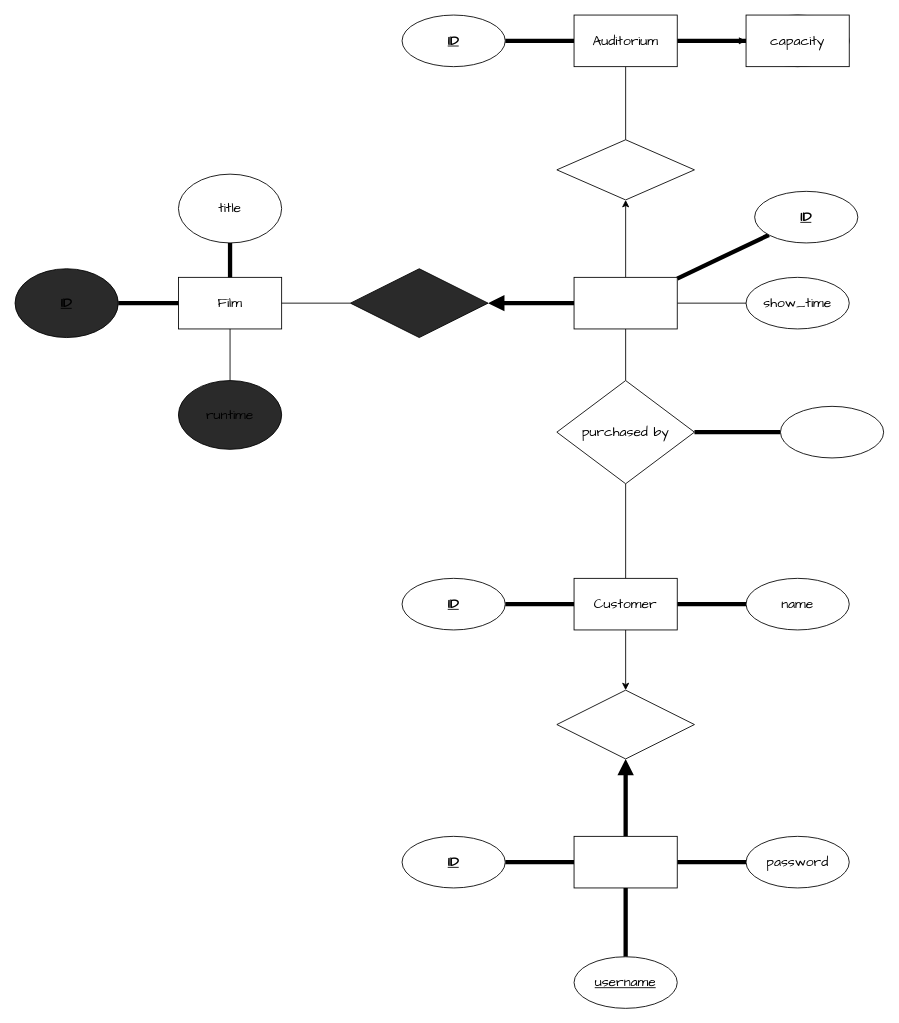
This 899x1023 diagram has some shape labels left out. The centre of each missing label's shape, as x and y in pixels:
Account: the point at 625,861
Event: the point at 625,302
features: the point at 419,303
has a: the point at 625,724
price: the point at 832,431
shown in: the point at 625,169
